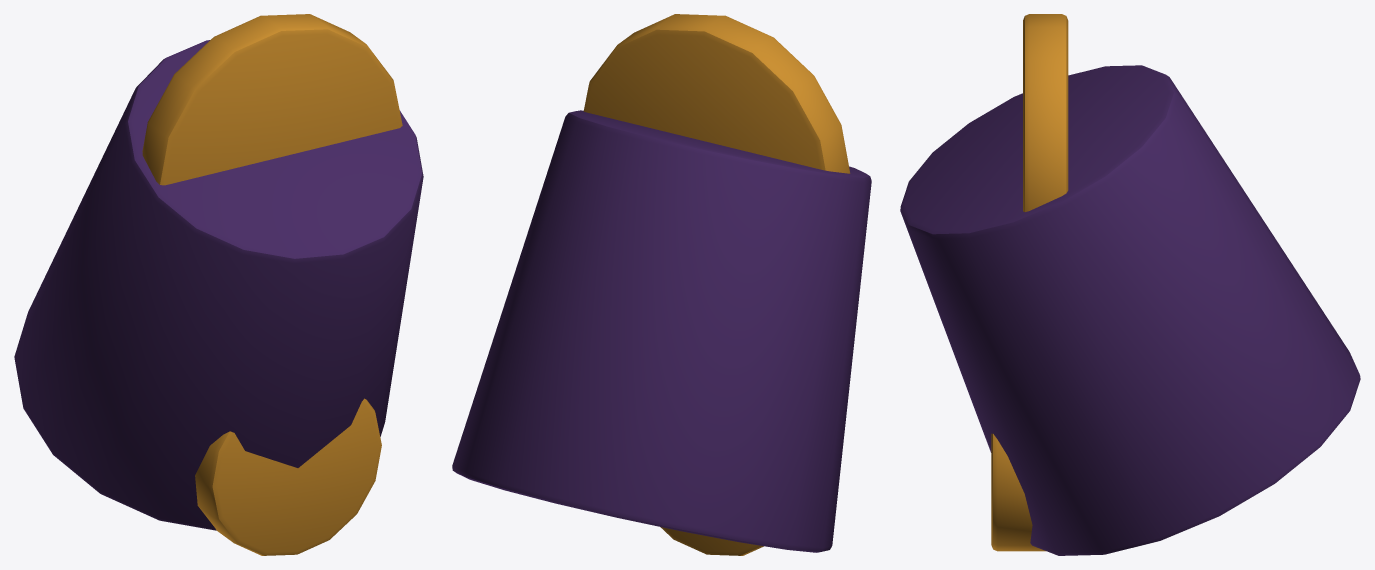
File: MortarDefault.obj
The picture shows the model from 3 angles, left to right: view 1: azimuth 30°, elevation 25°; view 2: azimuth 150°, elevation 25°; view 3: azimuth 270°, elevation 25°; orthographic projection. The views are drawn at different scales.
Parts seen in each view (by area): view 1: MortarDefault; view 2: MortarDefault; view 3: MortarDefault.
Part boxes in pixels (x1,y1,x2,y2): MortarDefault: (14,14,423,555); MortarDefault: (452,14,871,555); MortarDefault: (900,14,1360,555).
Size of the model in its own units: 0.8244 by 1.26 by 1.02.
